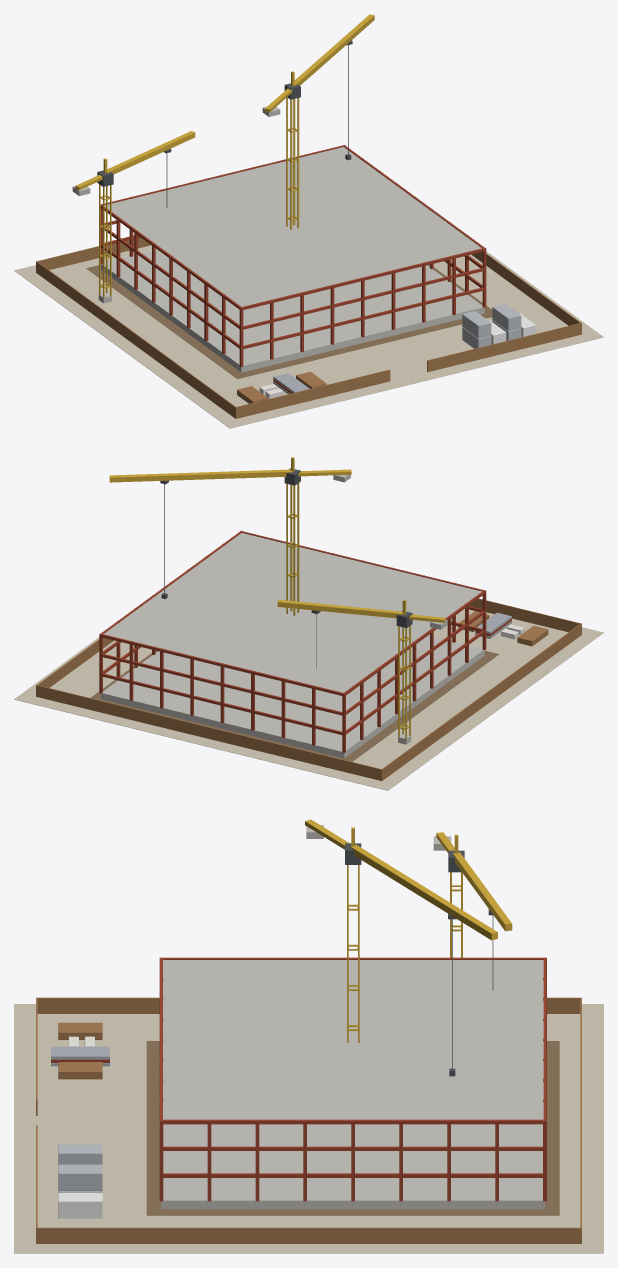
File: mega_skylinetower_1.glb
3 views of the same model, one above another, from view 1: azimuth 30°, elevation 25°; view 2: azimuth 150°, elevation 25°; view 3: azimuth 270°, elevation 25° (orthographic). The views are drawn at different scales.
Parts seen in each view (by area): view 1: mega_skylinetower_1; view 2: mega_skylinetower_1; view 3: mega_skylinetower_1.
Part boxes in pixels (<box>): mega_skylinetower_1: <box>14,14,603,428</box>; mega_skylinetower_1: <box>14,457,603,790</box>; mega_skylinetower_1: <box>14,819,603,1253</box>.
Size of the model in its own units: 80 by 45 by 80.
